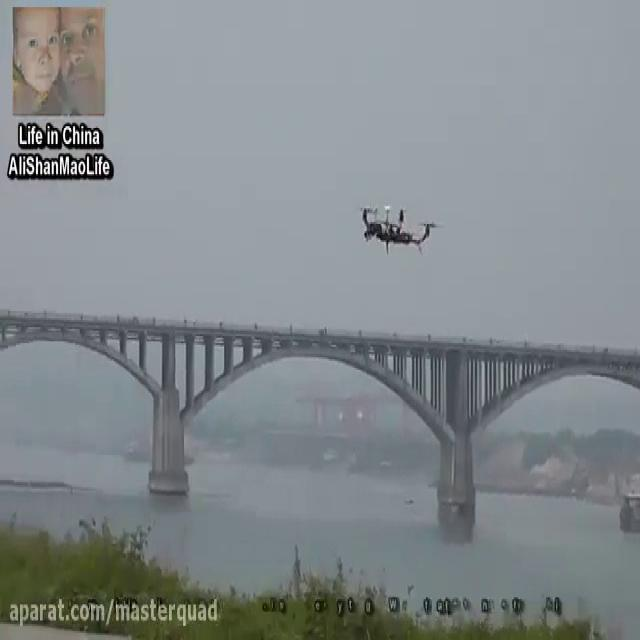drone: (355, 199, 445, 256)
